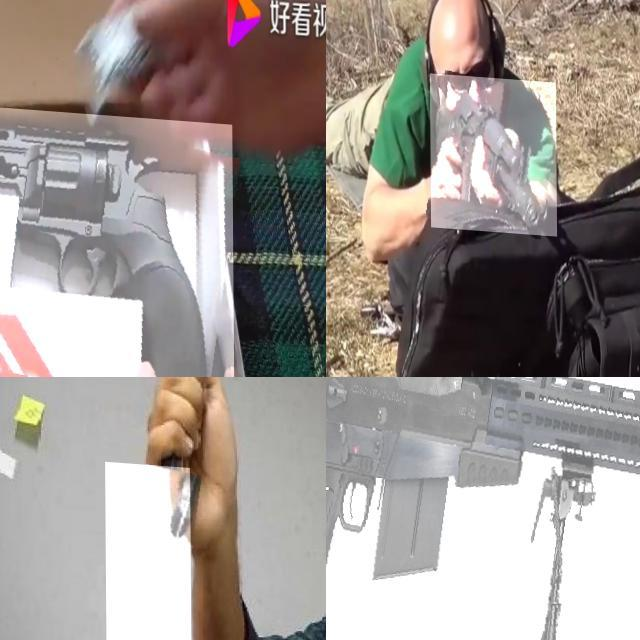-: (104, 459, 191, 640)
gun-knife-thesis - v11 Yolov5 augmented: (326, 377, 640, 640), (0, 97, 233, 377), (429, 70, 556, 232)
